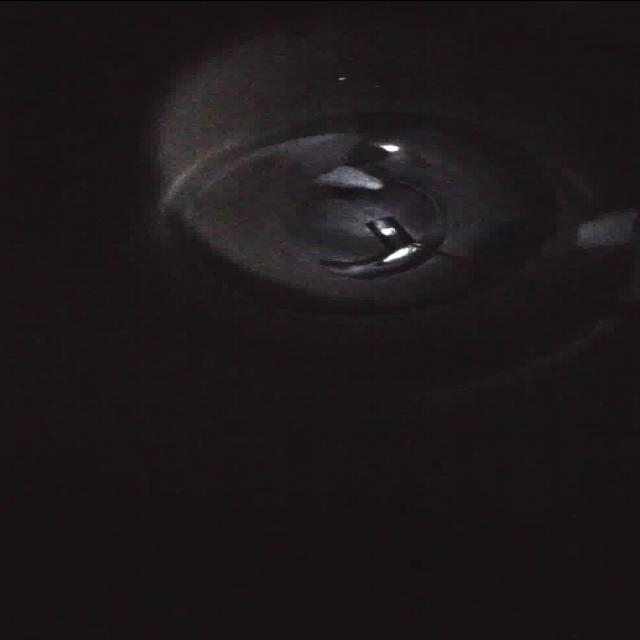impurity: (310, 160, 390, 193)
